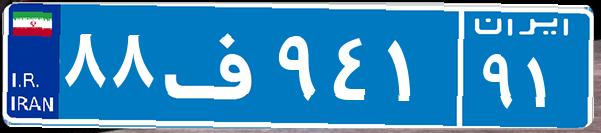1: (385, 28, 445, 110), (525, 38, 570, 115)
4: (330, 28, 385, 110)
8: (57, 26, 110, 107), (110, 28, 158, 105)
9: (273, 28, 330, 110), (475, 38, 525, 113)
ف: (158, 15, 273, 115)
